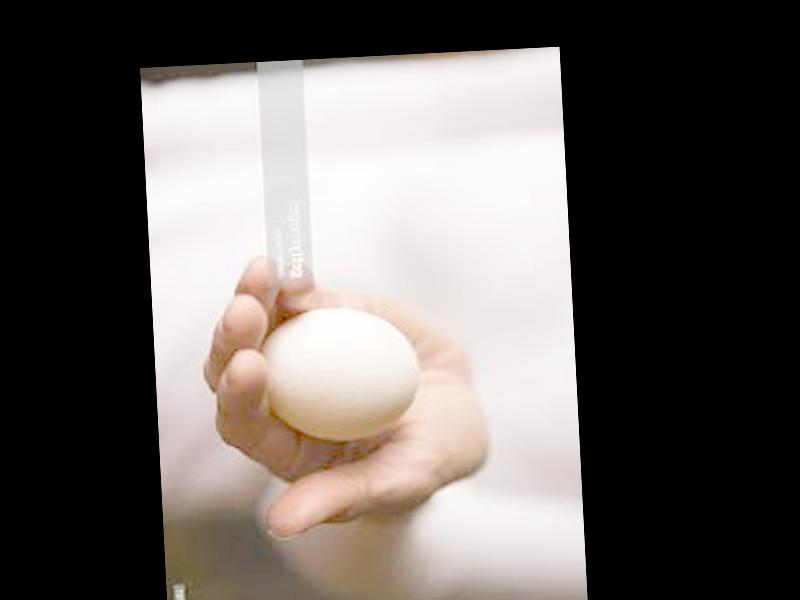Eggs: (260, 304, 420, 446)
